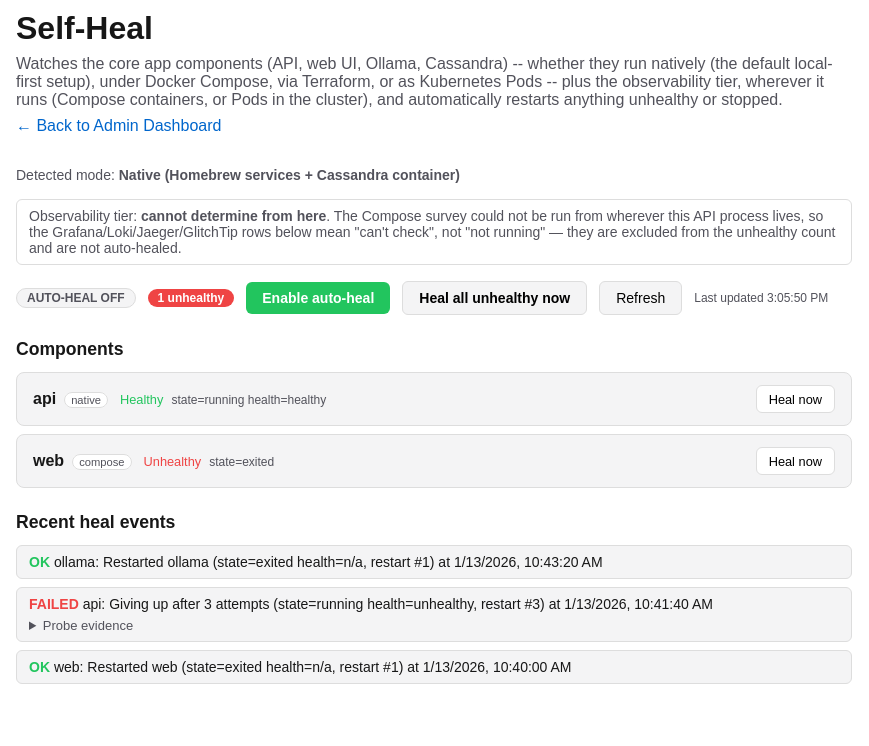
Test case: SelfHealPage › walks every toggle-error fallback branch and a non-Error toggle rejection
The image size is (869, 746).
What coordinates should you click on to do the following:
click the button "Enable auto-heal"
I would click on:
 (318, 298)
Its box is 246,282 -> 390,314.
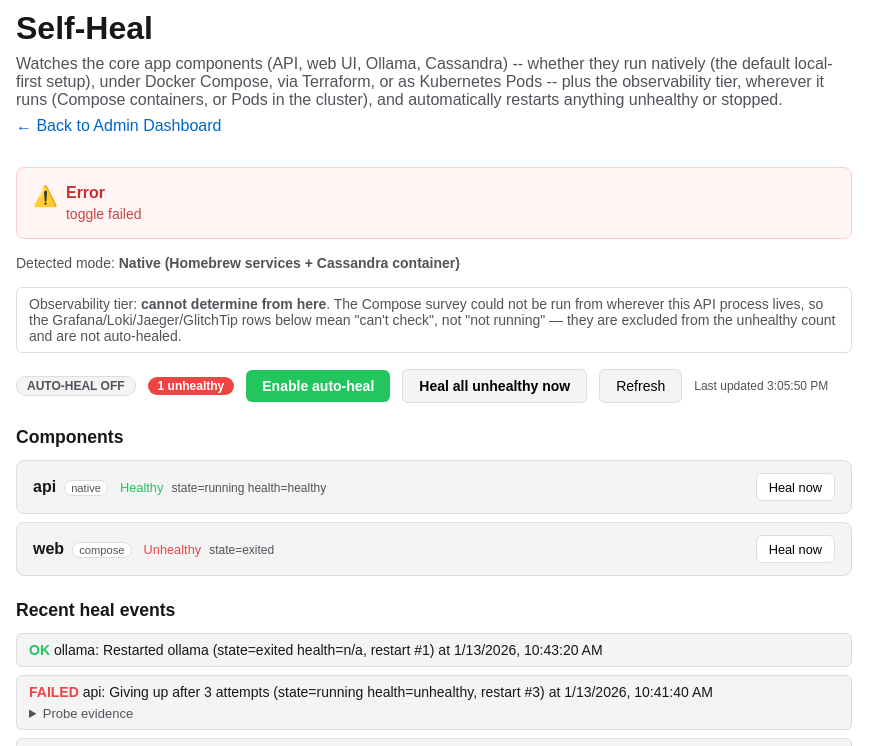
Expected: the text "toggle failed" is shown, 66,206 -> 142,222
What coordinates should you click on to do the following:
click the button "Enable auto-heal"
I would click on:
 (318, 386)
Its box is 246,370 -> 390,402.
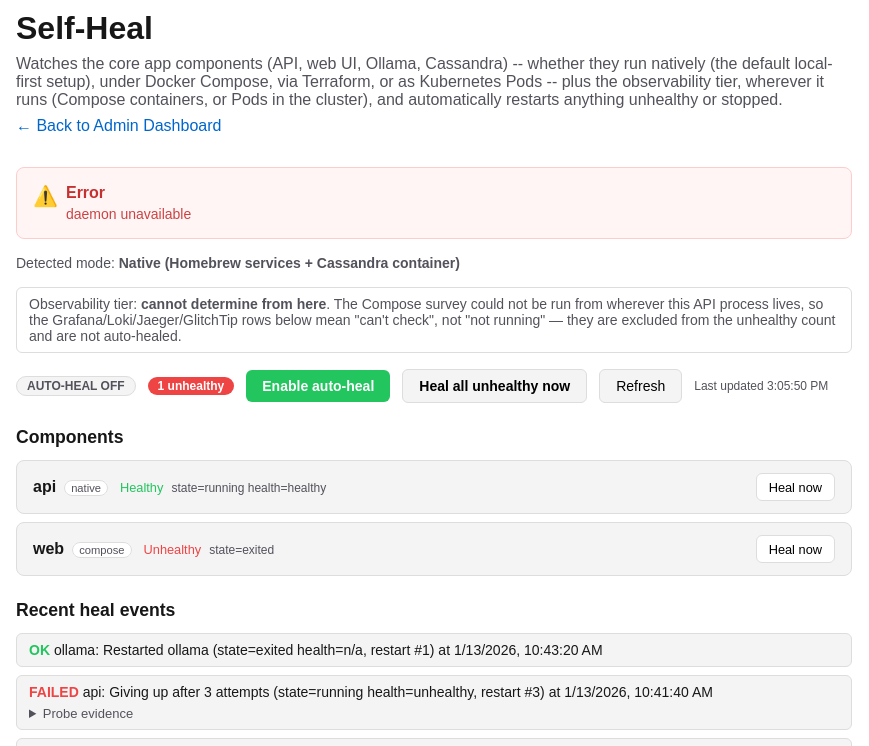
Expected: the text "daemon unavailable" is shown, 66,206 -> 191,222
What coordinates should you click on to do the following:
click the button "Enable auto-heal"
I would click on:
 (318, 386)
Its box is 246,370 -> 390,402.
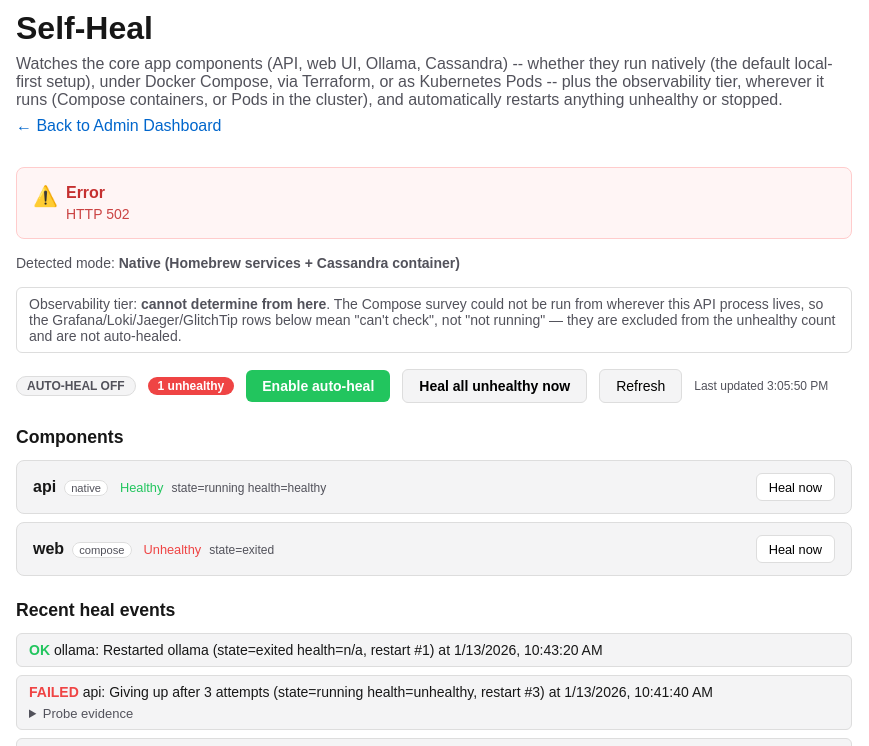
Expected: the text "HTTP 502" is shown, 66,206 -> 130,222
What coordinates should you click on to do the following:
click the button "Enable auto-heal"
I would click on:
 (318, 386)
Its box is 246,370 -> 390,402.
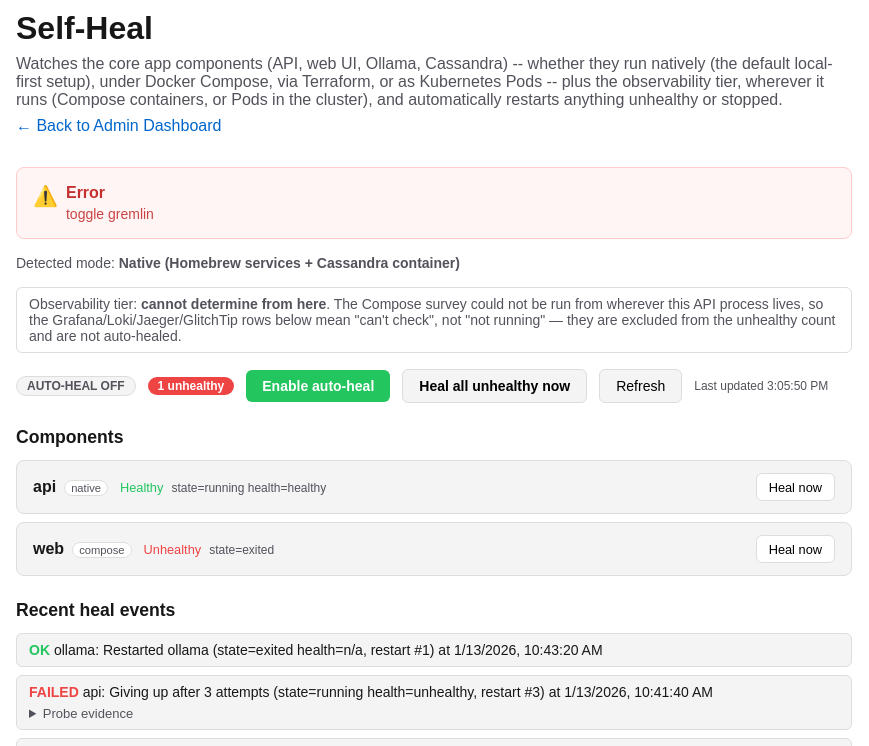
Expected: the text "toggle gremlin" is shown, 66,206 -> 154,222
